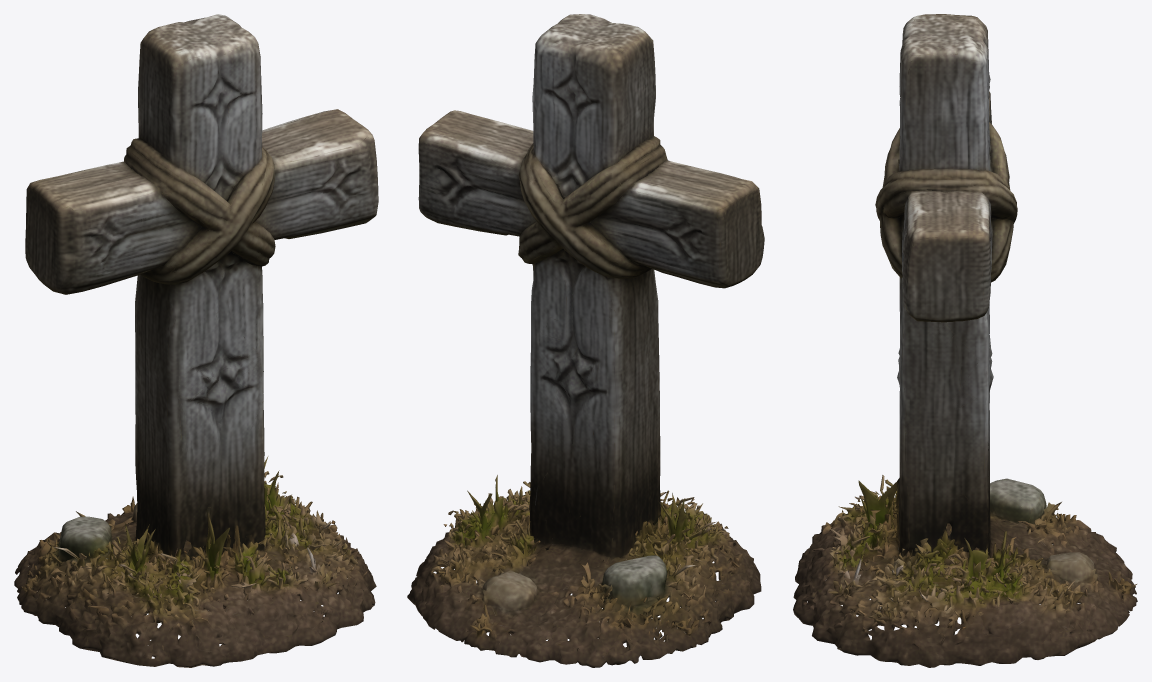
Rendered from grave_13_wooden_plank_cross.glb.
3 views of the same model, side by side, from view 1: azimuth 30°, elevation 25°; view 2: azimuth 150°, elevation 25°; view 3: azimuth 270°, elevation 25° (orthographic). The views are drawn at different scales.
Parts seen in each view (by area): view 1: world; view 2: world; view 3: world.
Part boxes in pixels (left/top/right/bottom): world: left=14, top=14, right=378, bottom=667; world: left=407, top=14, right=764, bottom=667; world: left=793, top=14, right=1137, bottom=667.
Size of the model in its own units: 0.5903 by 1 by 0.5582.
Materials: 1 (1 with a texture image).
